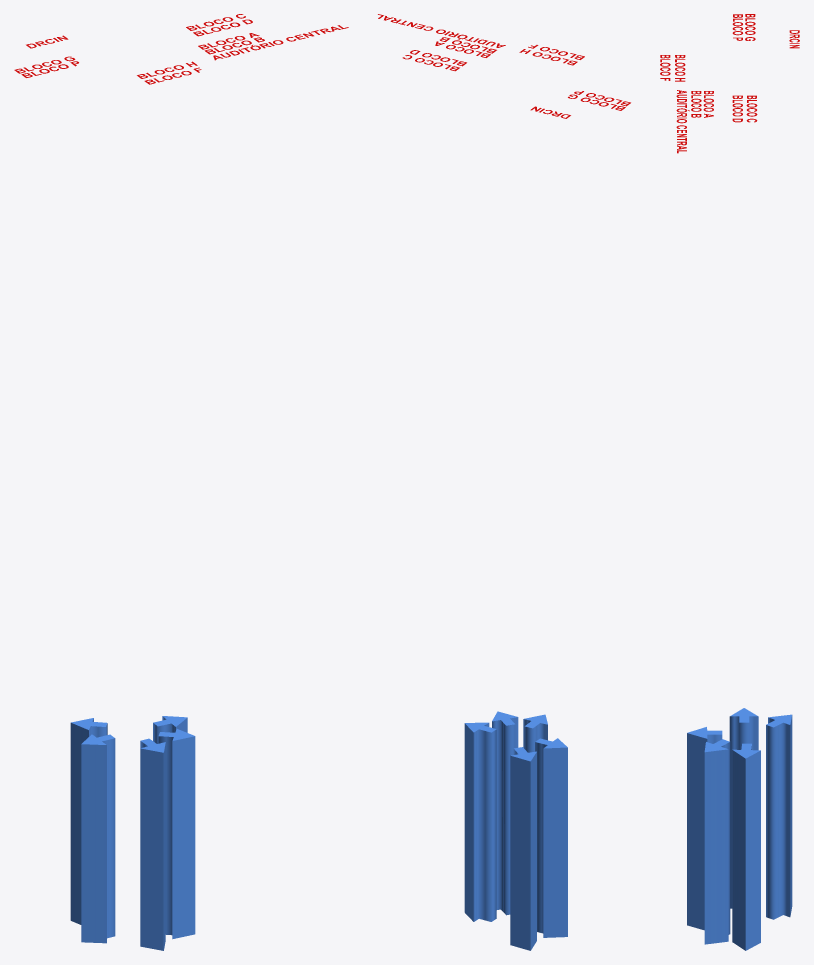
Rendered from bloco E - 0 - malha.glb.
The picture shows the model from 3 angles, left to right: view 1: azimuth 30°, elevation 25°; view 2: azimuth 150°, elevation 25°; view 3: azimuth 270°, elevation 25°; orthographic projection. The views are drawn at different scales.
Visible parts, largest first — view 1: Curve.001, Curve.002, Curve.004, Curve.005; view 2: Curve.003, Curve.001, Curve.005, Curve.002, Curve.004; view 3: Curve.003, Curve.002, Curve.005, Curve.004, Curve.001, Text.009.
Boxes of the visible parts, box(x1,y1,x2,y2) form: Curve.001: box(81, 734, 115, 943); Curve.002: box(158, 729, 195, 939); Curve.004: box(140, 738, 165, 950); Curve.005: box(70, 718, 107, 924); Curve.003: box(464, 722, 496, 921); Curve.001: box(535, 738, 567, 937); Curve.005: box(510, 747, 536, 950); Curve.002: box(492, 711, 518, 915); Curve.004: box(523, 714, 547, 752); Curve.003: box(732, 743, 760, 950); Curve.002: box(704, 739, 730, 944); Curve.005: box(766, 714, 792, 919); Curve.004: box(687, 727, 722, 930); Curve.001: box(729, 708, 758, 908); Text.009: box(676, 90, 689, 153).
Size of the model in its own units: 0.2048 by 0.5868 by 0.0867.
